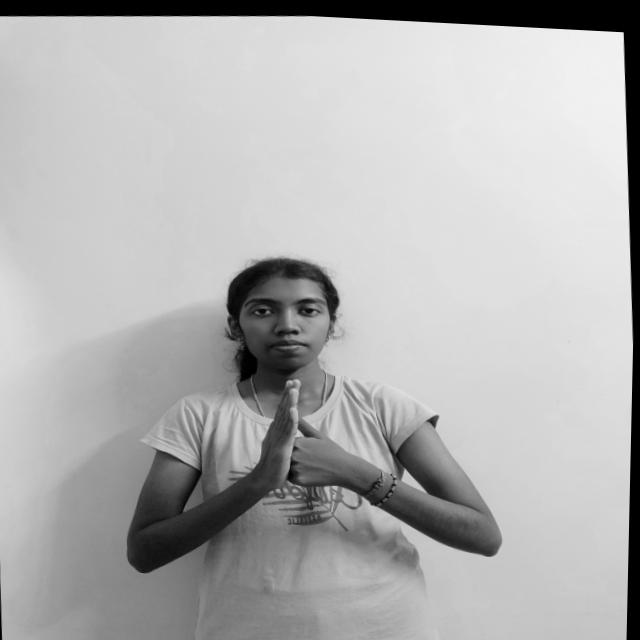Well Done: (203, 362, 393, 507)
